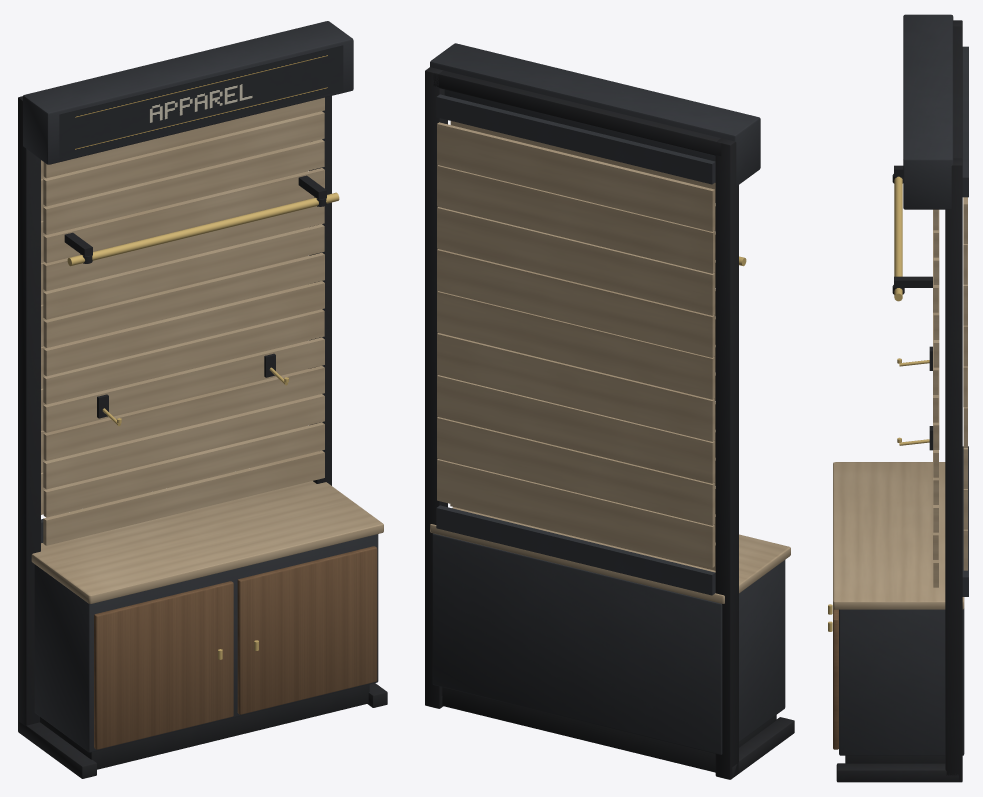
File: apparel_wall.glb
3 views of the same model, side by side, from view 1: azimuth 30°, elevation 25°; view 2: azimuth 150°, elevation 25°; view 3: azimuth 270°, elevation 25° (orthographic). The views are drawn at different scales.
Visible parts, largest first — view 1: Slatwall, Folded_Shelf, Cabinet_Door_R, Cabinet_Door_L, Cabinet_Body, Header_Sign, Frame_Upright_L, Header, Plinth, Frame_Upright_R, Hanging_Rod, Back_Panel (+1 smaller); view 2: Back_Panel, Cabinet_Body, Frame_Upright_L, Header, Frame_Upright_R, Back_Rail_Bottom, Back_Rail_Top, Plinth, Frame_TopRail, Folded_Shelf, Slatwall, Frame_Foot_L; view 3: Cabinet_Body, Folded_Shelf, Frame_Upright_R, Header, Slatwall, Frame_Foot_R, Back_Panel, Frame_TopRail, Back_Rail_Top, Hanging_Rod, Plinth, Cabinet_Door_R (+2 smaller).
Part boxes in pixels (x1,y1,x2,y2): Slatwall: [43, 97, 324, 545]; Folded_Shelf: [31, 481, 383, 603]; Cabinet_Door_R: [237, 546, 377, 714]; Cabinet_Door_L: [94, 581, 233, 749]; Cabinet_Body: [34, 534, 378, 752]; Header_Sign: [59, 45, 343, 159]; Frame_Upright_L: [18, 96, 40, 736]; Header: [23, 21, 353, 164]; Plinth: [40, 684, 369, 769]; Frame_Upright_R: [309, 96, 331, 485]; Hanging_Rod: [67, 192, 339, 266]; Back_Panel: [41, 160, 307, 514]; Back_Panel: [437, 122, 714, 567]; Cabinet_Body: [432, 533, 785, 754]; Frame_Upright_L: [715, 138, 738, 779]; Header: [430, 43, 760, 185]; Frame_Upright_R: [425, 67, 447, 708]; Back_Rail_Bottom: [436, 505, 715, 595]; Back_Rail_Top: [436, 94, 715, 184]; Plinth: [442, 687, 776, 772]; Frame_TopRail: [433, 70, 721, 155]; Folded_Shelf: [430, 507, 790, 603]; Slatwall: [450, 121, 715, 570]; Frame_Foot_L: [732, 717, 794, 778]; Cabinet_Body: [839, 608, 964, 755]; Folded_Shelf: [833, 462, 964, 609]; Frame_Upright_R: [945, 158, 962, 782]; Header: [903, 14, 953, 209]; Slatwall: [933, 209, 939, 587]; Frame_Foot_R: [836, 763, 958, 782]; Back_Panel: [963, 197, 967, 570]; Frame_TopRail: [953, 24, 962, 159]; Back_Rail_Top: [962, 46, 968, 197]; Hanging_Rod: [894, 176, 902, 301]; Plinth: [845, 755, 945, 763]; Cabinet_Door_R: [833, 609, 838, 749].
Size of the model in its own units: 1.1 by 2.2 by 0.4505.
8 materials, 6 textured.
